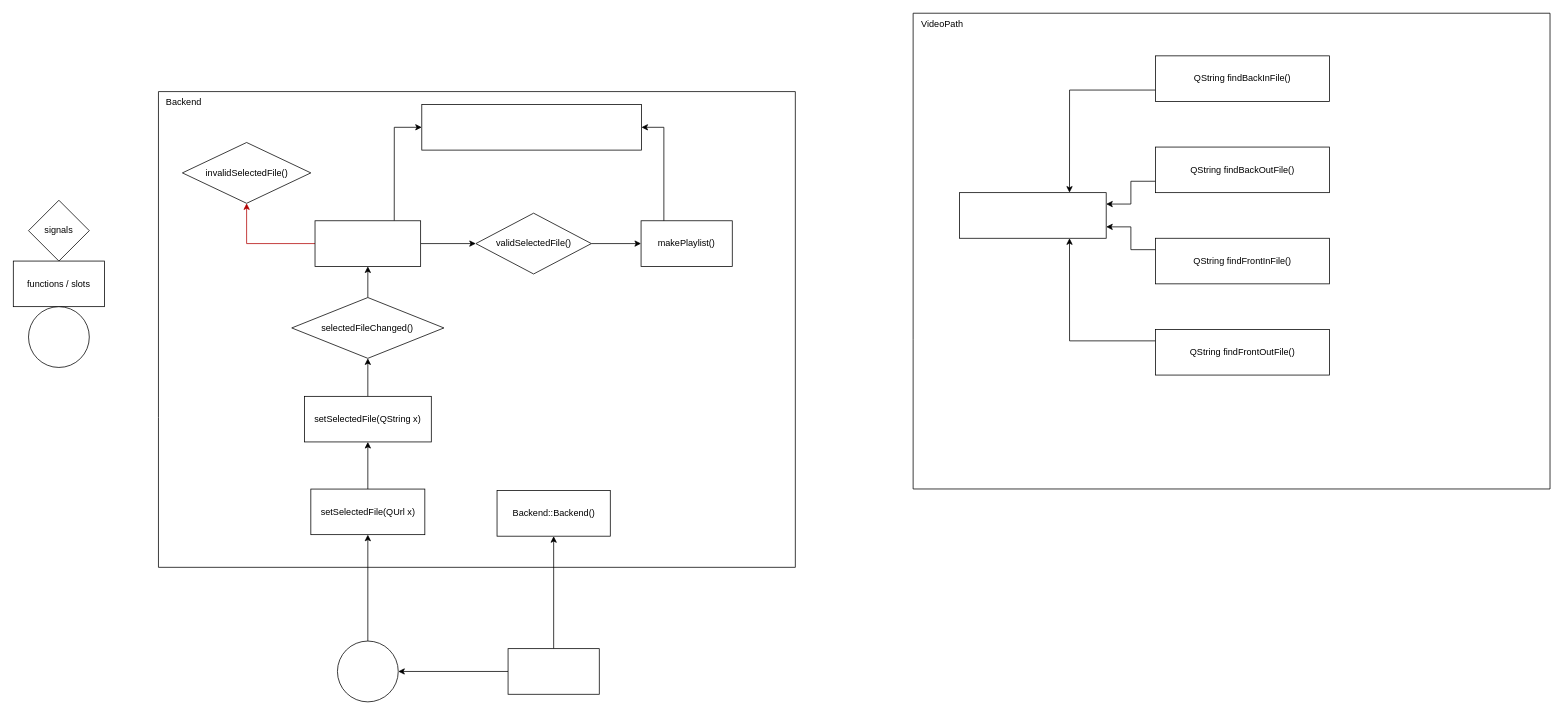
Image size: 1564x716. Some labels were removed from this diagram. Here are the shapes that lost their labels. From the top down, the centre of each, then its label:
At point (531, 127): "isValidFileName(QString fileName, QChar &type)".
At point (1032, 215): "addVideoFile(QString videoFile)".
At point (367, 243): "validateSelectedFile()".
At point (58, 336): "qml".
At point (367, 671): "selected file in FileDialog".
At point (553, 671): "main.cpp".
